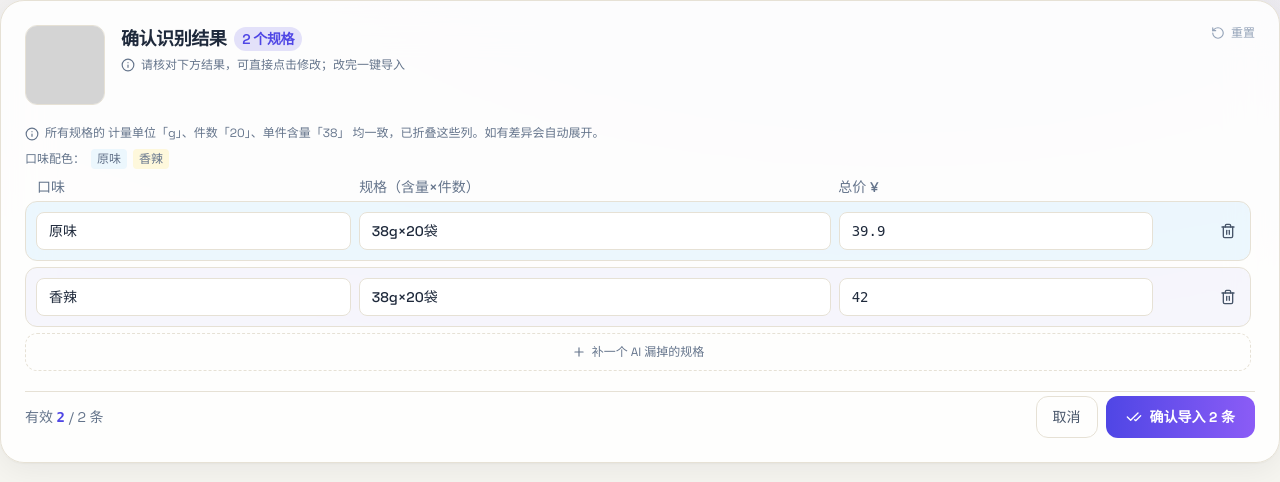
Test: RecognizeReview 识别确认流 › 删除某行后总条数与有效条数一起减少
The width and height of the screenshot is (1280, 482).
Click the 1st button named "删除此行".
click(1228, 231)  # box [1216,219,1240,243]
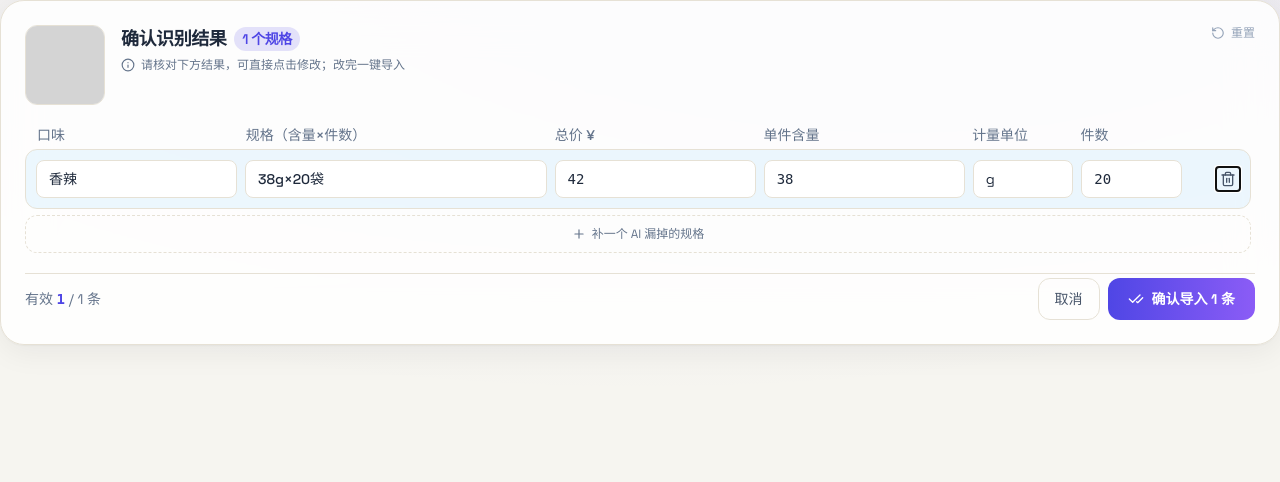
Expected: the text "1 个规格" is shown, [234,27,300,51]
Expected: the text "有效 1 / 1 条" is shown, [25,289,101,309]
